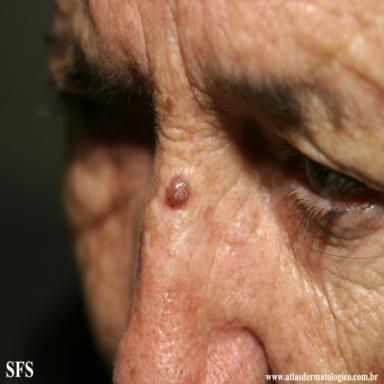basal-cell-carcinoma: (166, 176, 190, 208)
